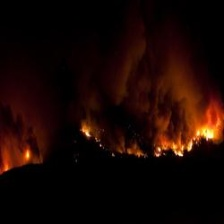fire: (81, 108, 219, 157)
